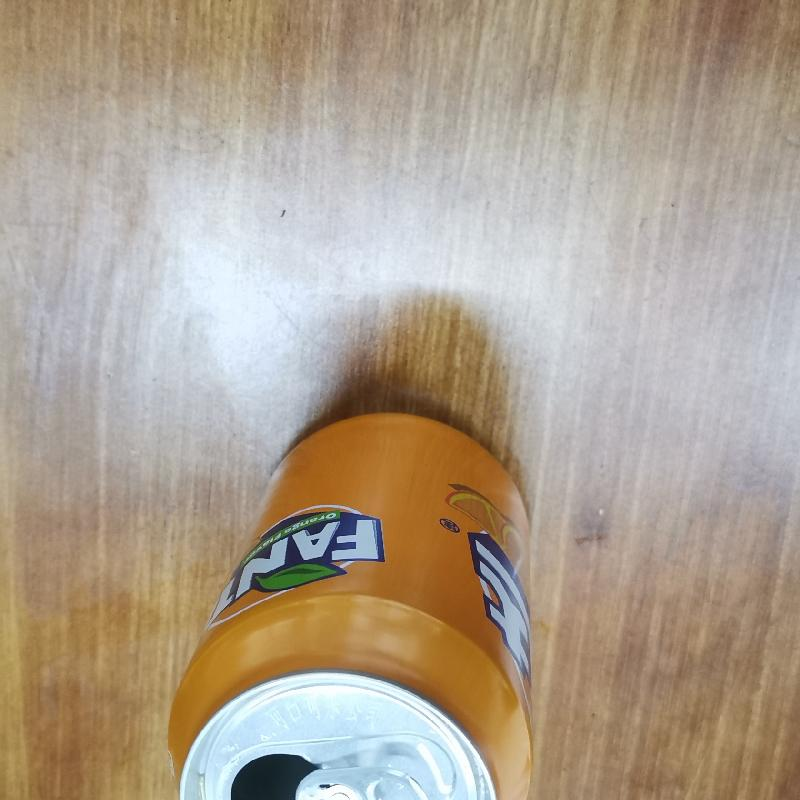cans: (154, 410, 555, 800)
